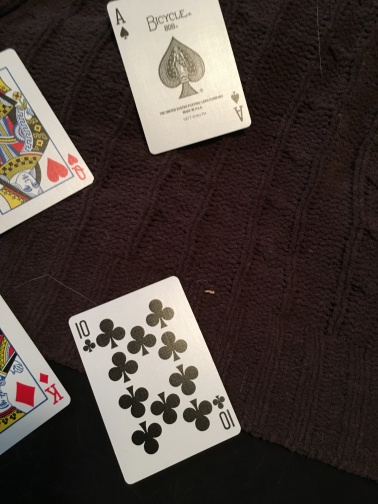ace: (105, 3, 258, 156)
king: (1, 289, 71, 456)
queen: (1, 43, 97, 236)
ten: (68, 276, 240, 486)
